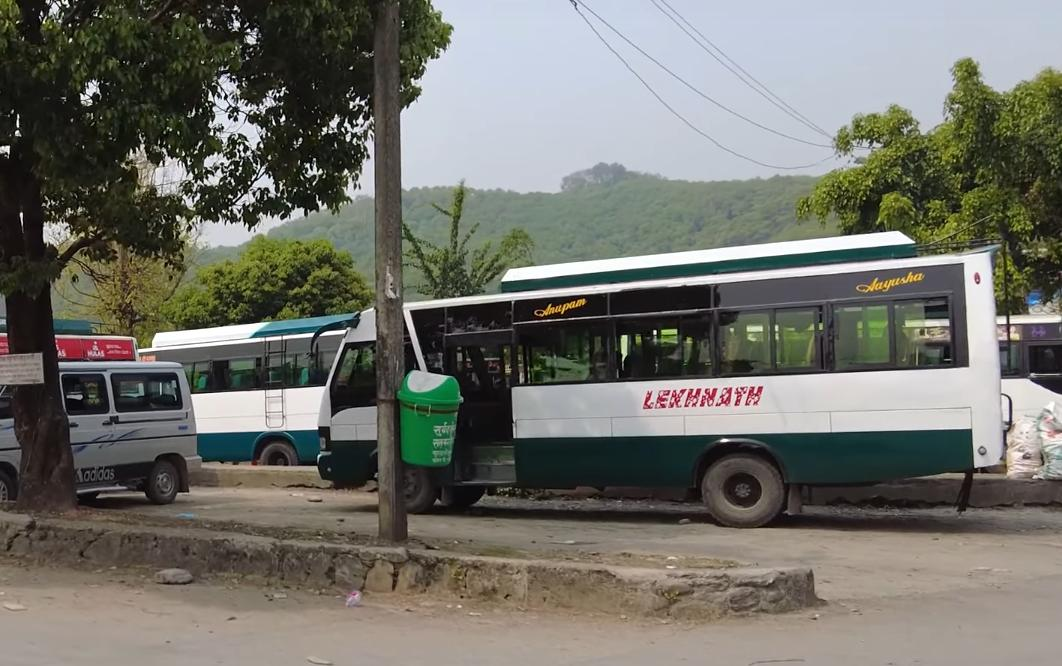bus: (293, 211, 1016, 534)
